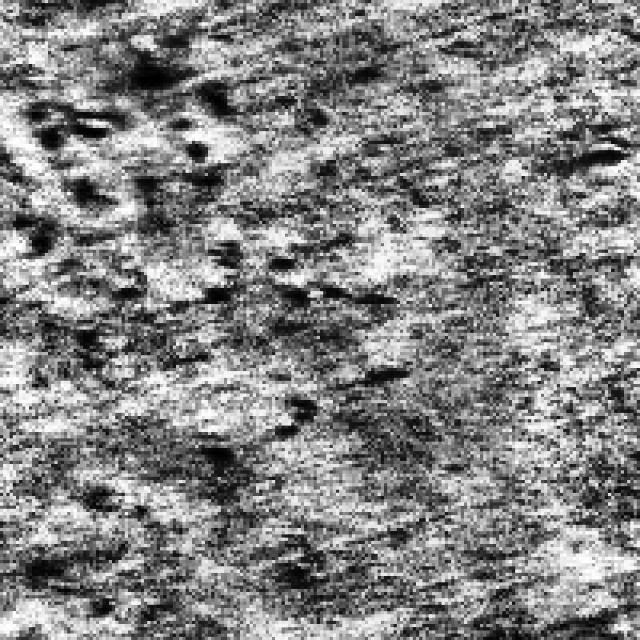Crazing: (202, 230, 390, 460), (9, 58, 228, 236)
